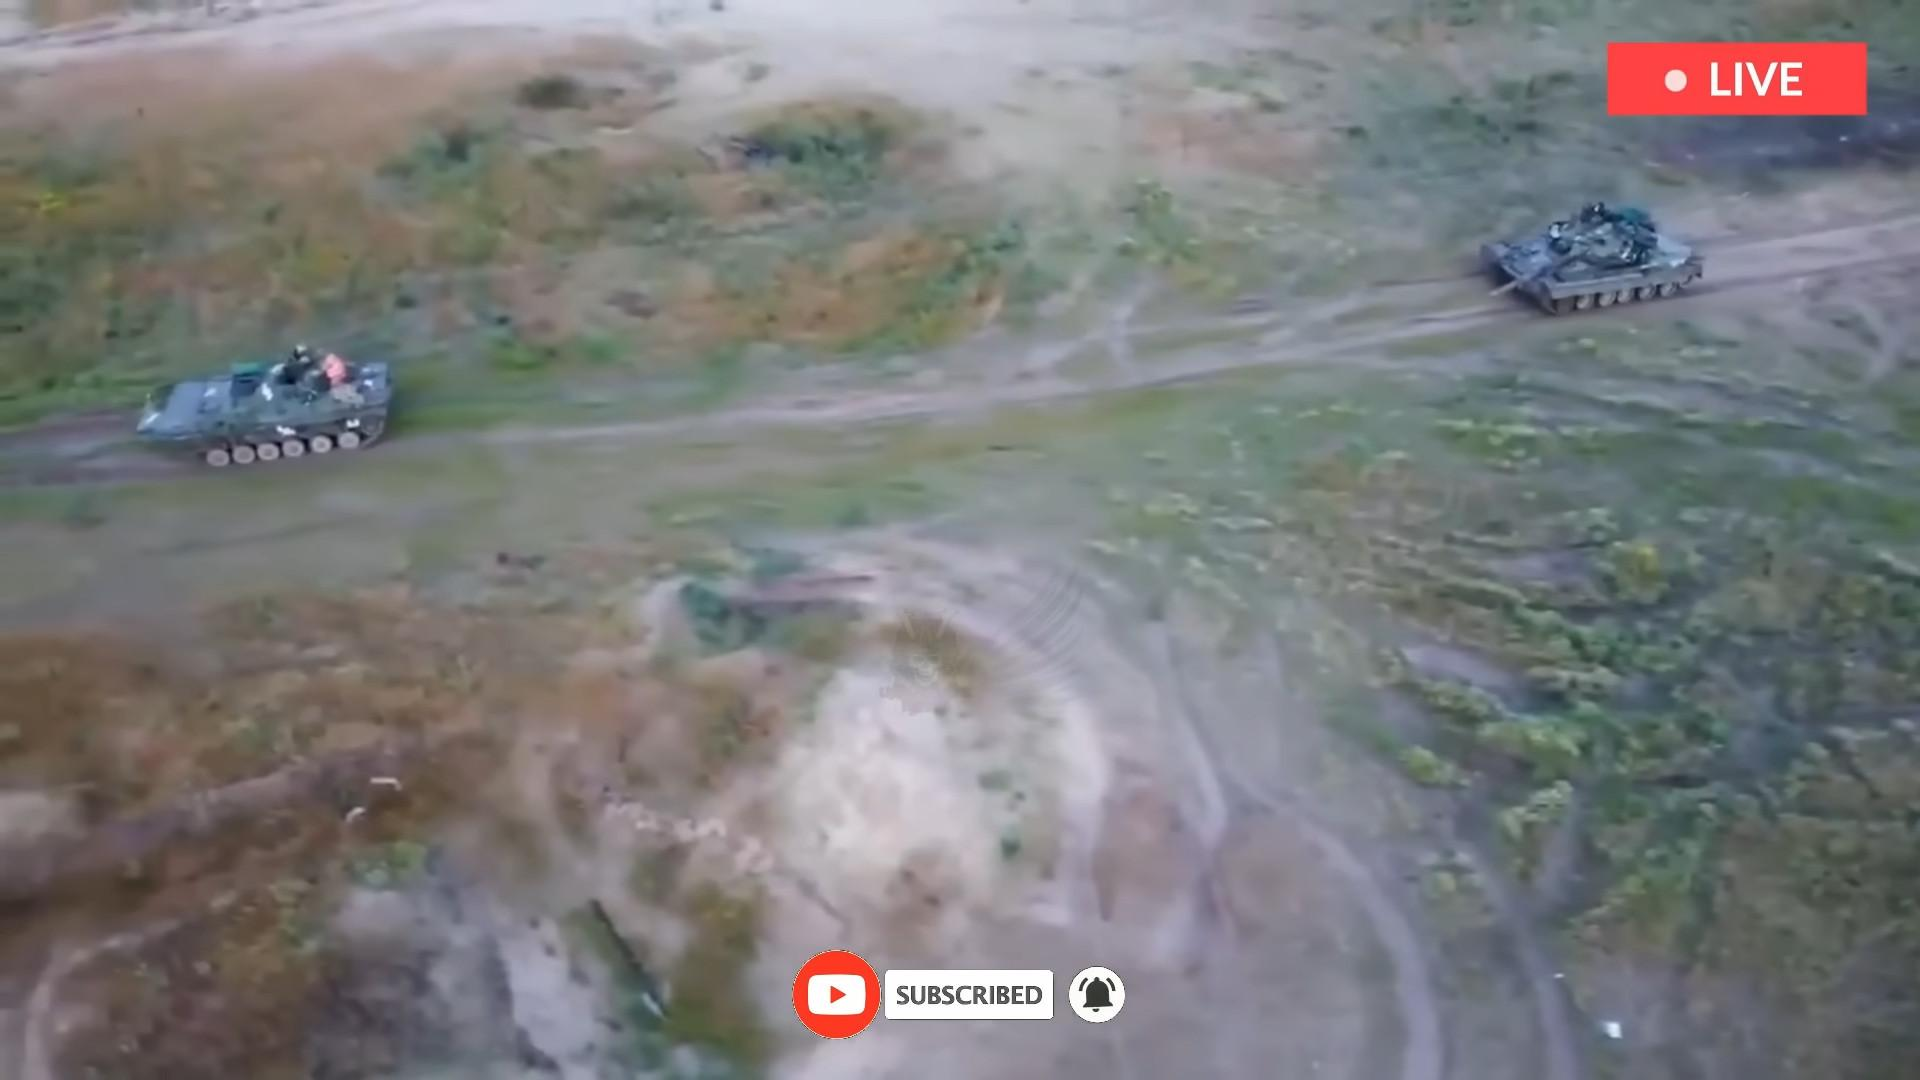tank: (1478, 202, 1704, 315)
